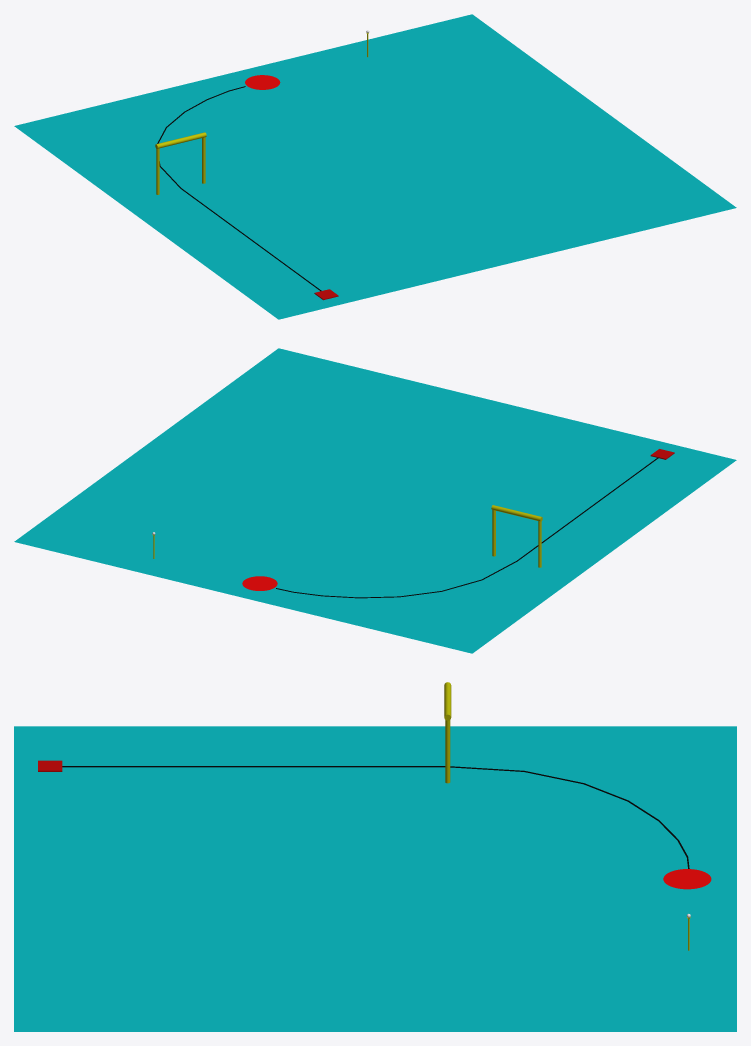
Rendered from singapore-2015-scena.dae.
3 renders of one model, top to bottom at view 1: azimuth 30°, elevation 25°; view 2: azimuth 150°, elevation 25°; view 3: azimuth 270°, elevation 25°, orthographic. The views are drawn at different scales.
Visible parts, largest first — view 1: Plane001; view 2: Plane001; view 3: Plane001, Cone, Line0010.
Part boxes in pixels (x1=…): Plane001: x1=14, y1=14, x2=736, y2=319; Plane001: x1=14, y1=348, x2=736, y2=653; Plane001: x1=14, y1=726, x2=736, y2=1031; Cone: x1=663, y1=869, x2=711, y2=889; Line0010: x1=62, y1=766, x2=445, y2=767.
Bounding box in the file's own units: 30 × 30 × 3.17.
